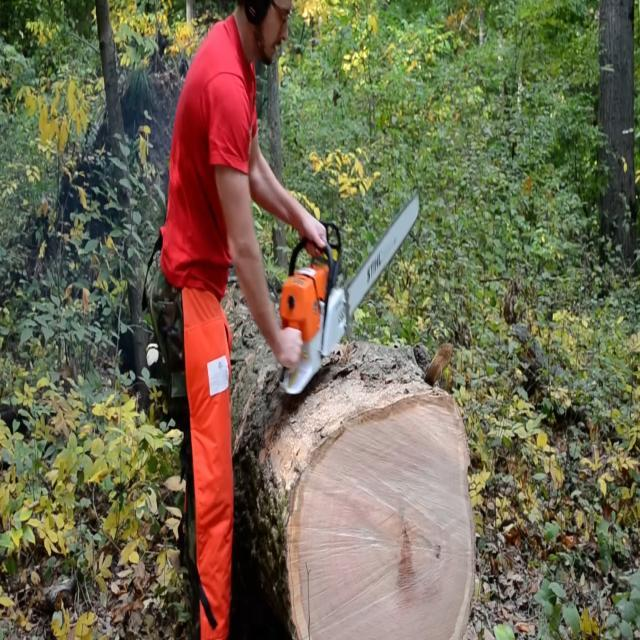Chainsaw: (266, 181, 428, 412)
